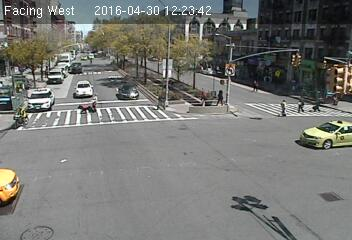neg: (244, 143, 273, 182), (220, 186, 247, 221), (11, 102, 33, 132), (181, 98, 203, 127), (141, 164, 162, 193), (20, 44, 40, 72), (94, 157, 114, 184), (51, 146, 69, 171), (325, 183, 342, 206), (220, 38, 237, 61), (289, 34, 305, 56), (259, 50, 275, 72), (68, 64, 84, 85), (323, 55, 338, 75), (20, 188, 35, 208), (191, 36, 205, 56), (123, 80, 137, 98), (308, 128, 322, 146), (159, 59, 172, 78), (78, 101, 90, 117), (124, 54, 135, 69), (86, 49, 96, 63)
pos: (152, 91, 169, 113), (292, 95, 307, 115), (276, 96, 291, 115), (212, 87, 227, 106), (312, 95, 326, 113)
